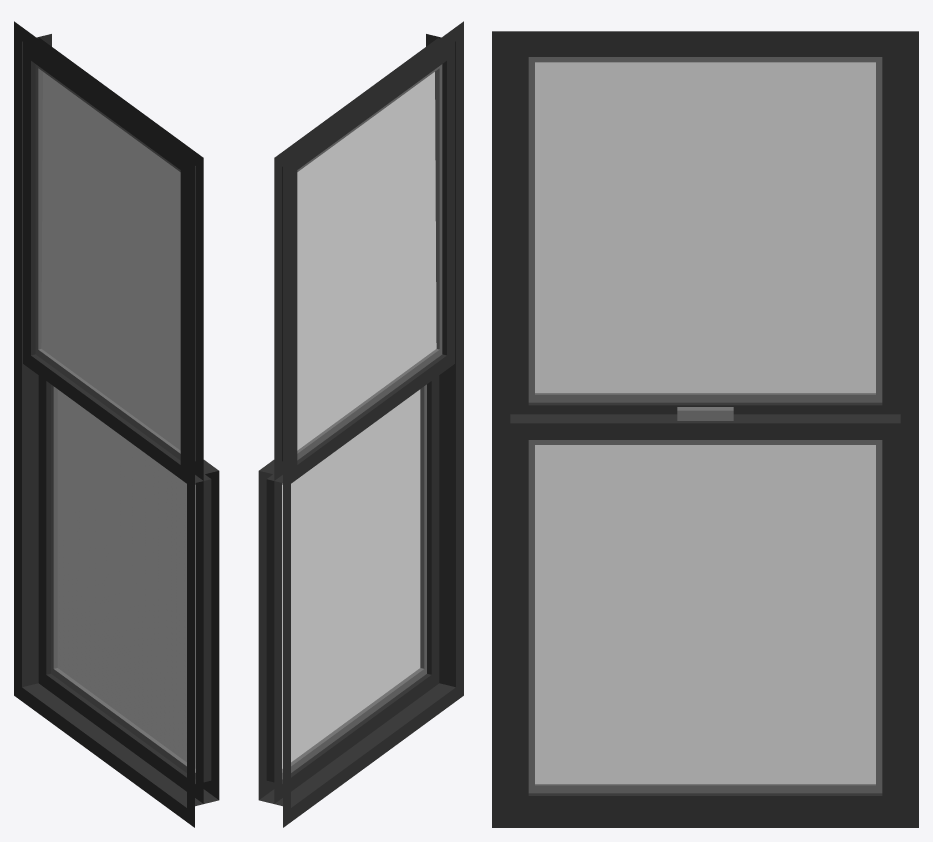
The model's file is Obj_WindowSmall.fbx.
3 views of the same model, side by side, from view 1: azimuth 30°, elevation 25°; view 2: azimuth 150°, elevation 25°; view 3: azimuth 270°, elevation 25° (orthographic). The views are drawn at different scales.
Parts seen in each view (by area): view 1: Obj_WindowSmall_Glass001, Obj_WindowSmall001; view 2: Obj_WindowSmall_Glass001, Obj_WindowSmall001; view 3: Obj_WindowSmall_Glass001, Obj_WindowSmall001.
Boxes of the visible parts, x1=… form: Obj_WindowSmall_Glass001: x1=41, y1=72, x2=195, y2=768; Obj_WindowSmall001: x1=14, y1=21, x2=219, y2=827; Obj_WindowSmall_Glass001: x1=282, y1=72, x2=436, y2=768; Obj_WindowSmall001: x1=258, y1=21, x2=463, y2=827; Obj_WindowSmall_Glass001: x1=535, y1=62, x2=875, y2=783; Obj_WindowSmall001: x1=492, y1=31, x2=918, y2=827.
Size of the model in its own units: 0.0872 by 1.75 by 0.85.
Materials: 2 (1 with a texture image).
